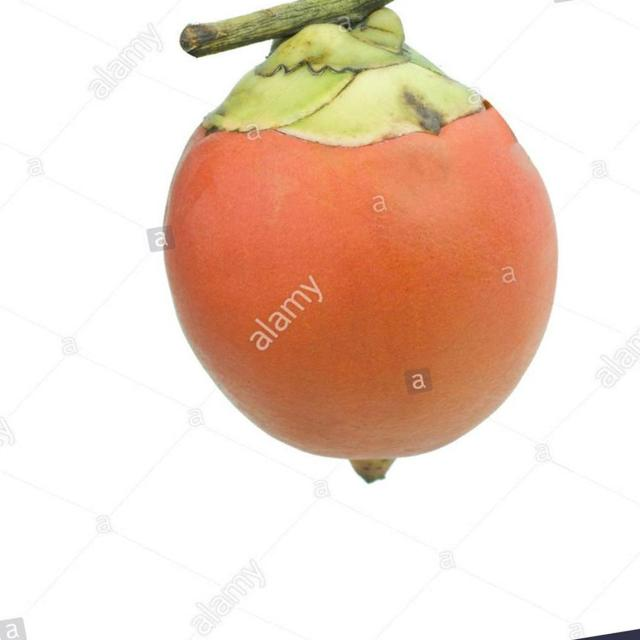good: (161, 11, 561, 481)
